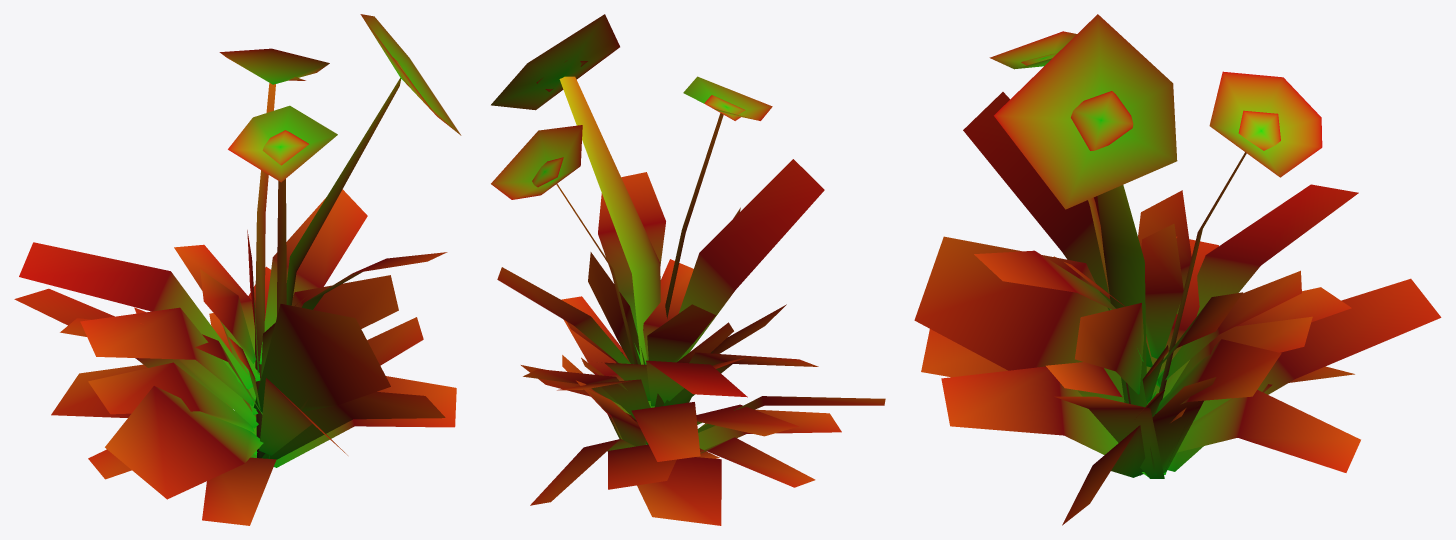
The model's file is Cape Weed_LOD2_Var4_tjmhfcyia.fbx.
3 views of the same model, side by side, from view 1: azimuth 30°, elevation 25°; view 2: azimuth 150°, elevation 25°; view 3: azimuth 270°, elevation 25° (orthographic). The views are drawn at different scales.
Parts seen in each view (by area): view 1: _9879_Var4_LOD2; view 2: _9879_Var4_LOD2; view 3: _9879_Var4_LOD2.
Boxes of the visible parts, left/top/right/bottom form: _9879_Var4_LOD2: left=14, top=14, right=461, bottom=525; _9879_Var4_LOD2: left=491, top=14, right=885, bottom=525; _9879_Var4_LOD2: left=914, top=14, right=1441, bottom=525.
Bounding box in the file's own units: 18.55 × 21.62 × 20.62.
